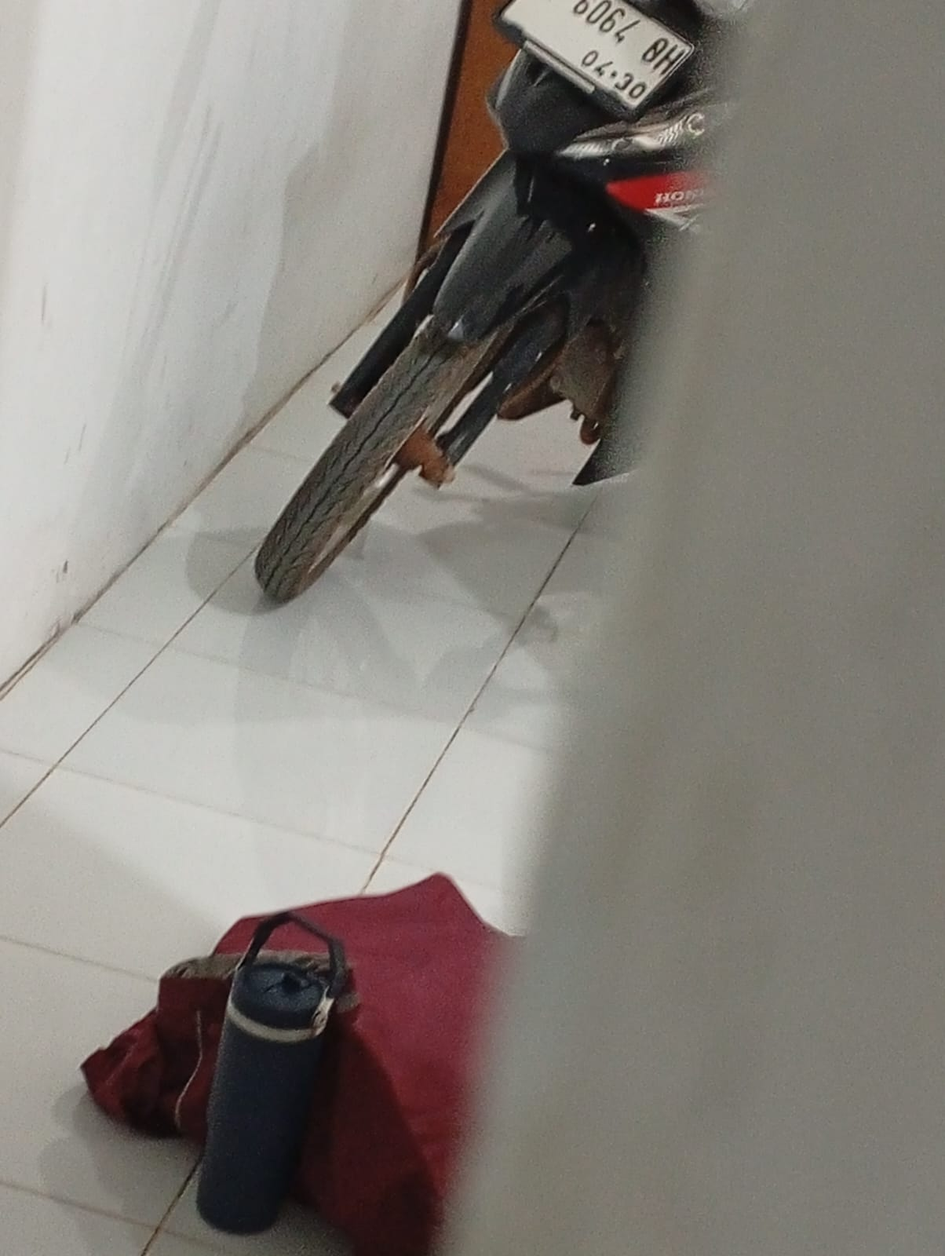Tupperware: (216, 860, 406, 1230), (286, 737, 331, 770)
